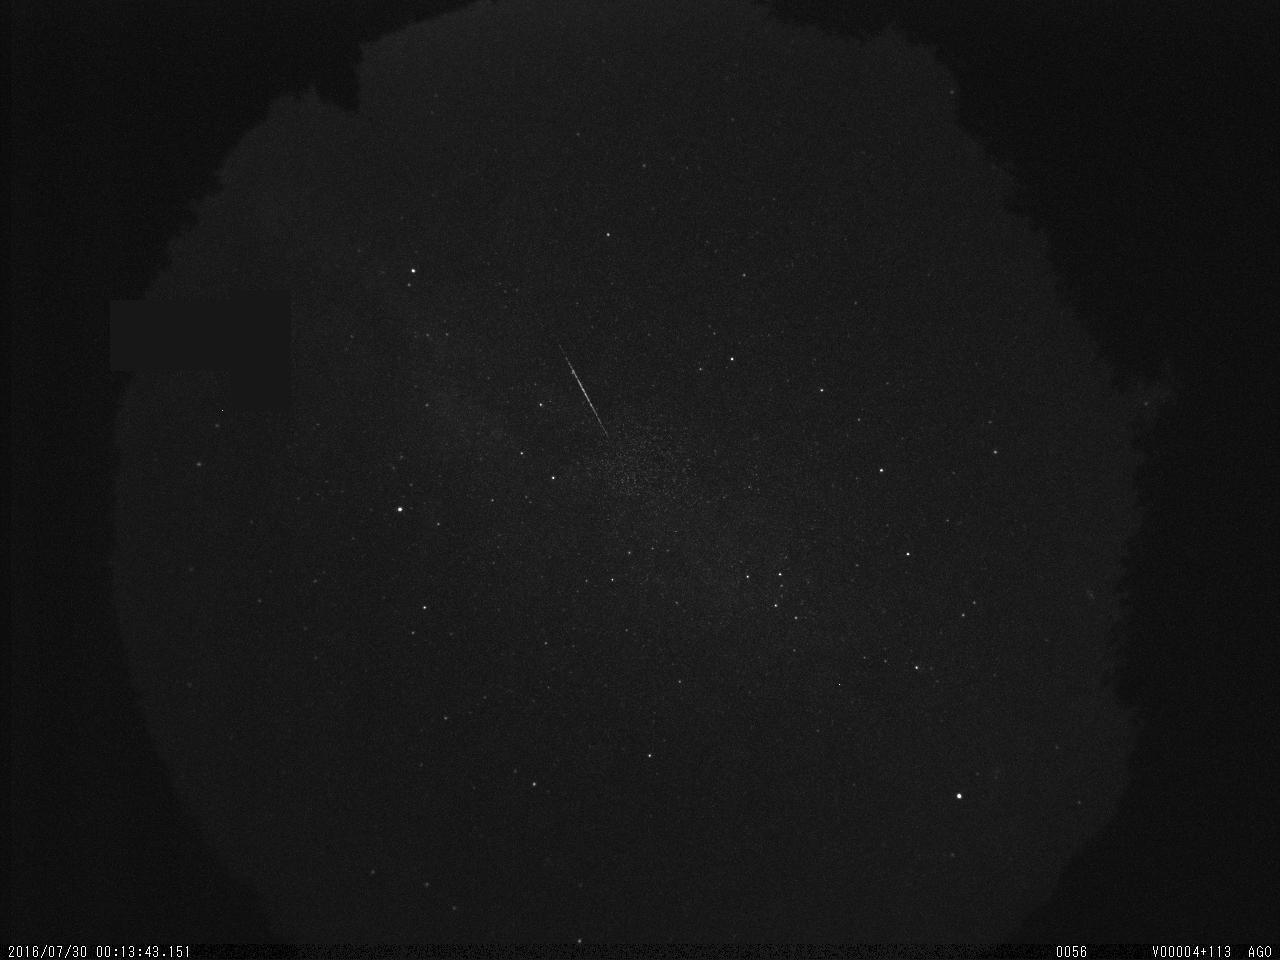meteor: (544, 345, 622, 442)
